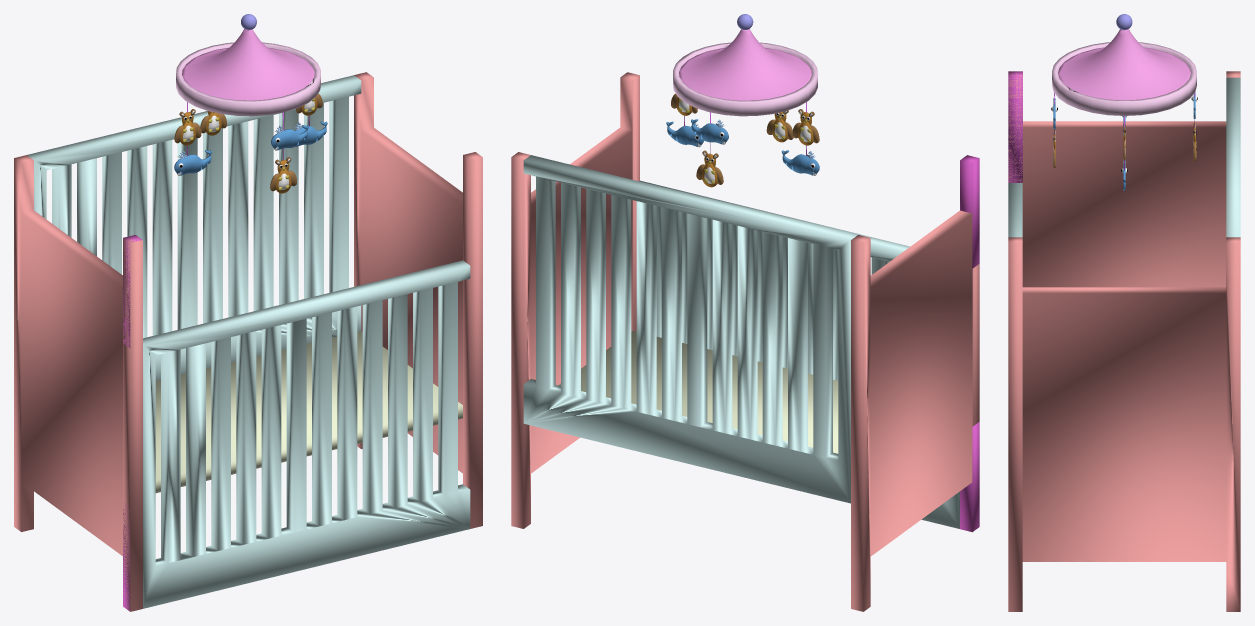
3 views of the same model, side by side, from view 1: azimuth 30°, elevation 25°; view 2: azimuth 150°, elevation 25°; view 3: azimuth 270°, elevation 25° (orthographic).
Visible parts, largest first — view 1: Object_10, Object_15, Object_14, Object_16, Object_17, Object_4, Object_11, Object_8, Object_7; view 2: Object_10, Object_15, Object_16, Object_14, Object_17, Object_11, Object_4, Object_8, Object_7, Object_18; view 3: Object_15, Object_16, Object_17, Object_10, Object_11.
Boxes of the visible parts, bbox=[...] form: Object_10: bbox=[27, 75, 470, 608]; Object_15: bbox=[14, 72, 482, 611]; Object_14: bbox=[155, 331, 462, 493]; Object_16: bbox=[182, 29, 314, 100]; Object_17: bbox=[176, 42, 320, 116]; Object_4: bbox=[174, 121, 327, 175]; Object_11: bbox=[123, 235, 142, 610]; Object_8: bbox=[180, 97, 317, 193]; Object_7: bbox=[174, 93, 322, 191]; Object_10: bbox=[523, 155, 959, 528]; Object_15: bbox=[511, 72, 979, 611]; Object_16: bbox=[679, 29, 811, 100]; Object_14: bbox=[558, 331, 838, 453]; Object_17: bbox=[673, 42, 817, 116]; Object_11: bbox=[960, 155, 979, 532]; Object_4: bbox=[666, 119, 819, 175]; Object_8: bbox=[676, 97, 813, 187]; Object_7: bbox=[671, 93, 819, 184]; Object_18: bbox=[679, 101, 816, 183]; Object_15: bbox=[1008, 71, 1240, 611]; Object_16: bbox=[1058, 29, 1190, 100]; Object_17: bbox=[1052, 42, 1196, 115]; Object_10: bbox=[1008, 77, 1240, 237]; Object_11: bbox=[1008, 71, 1022, 182].
Size of the model in its own units: 140 by 194 by 80.
